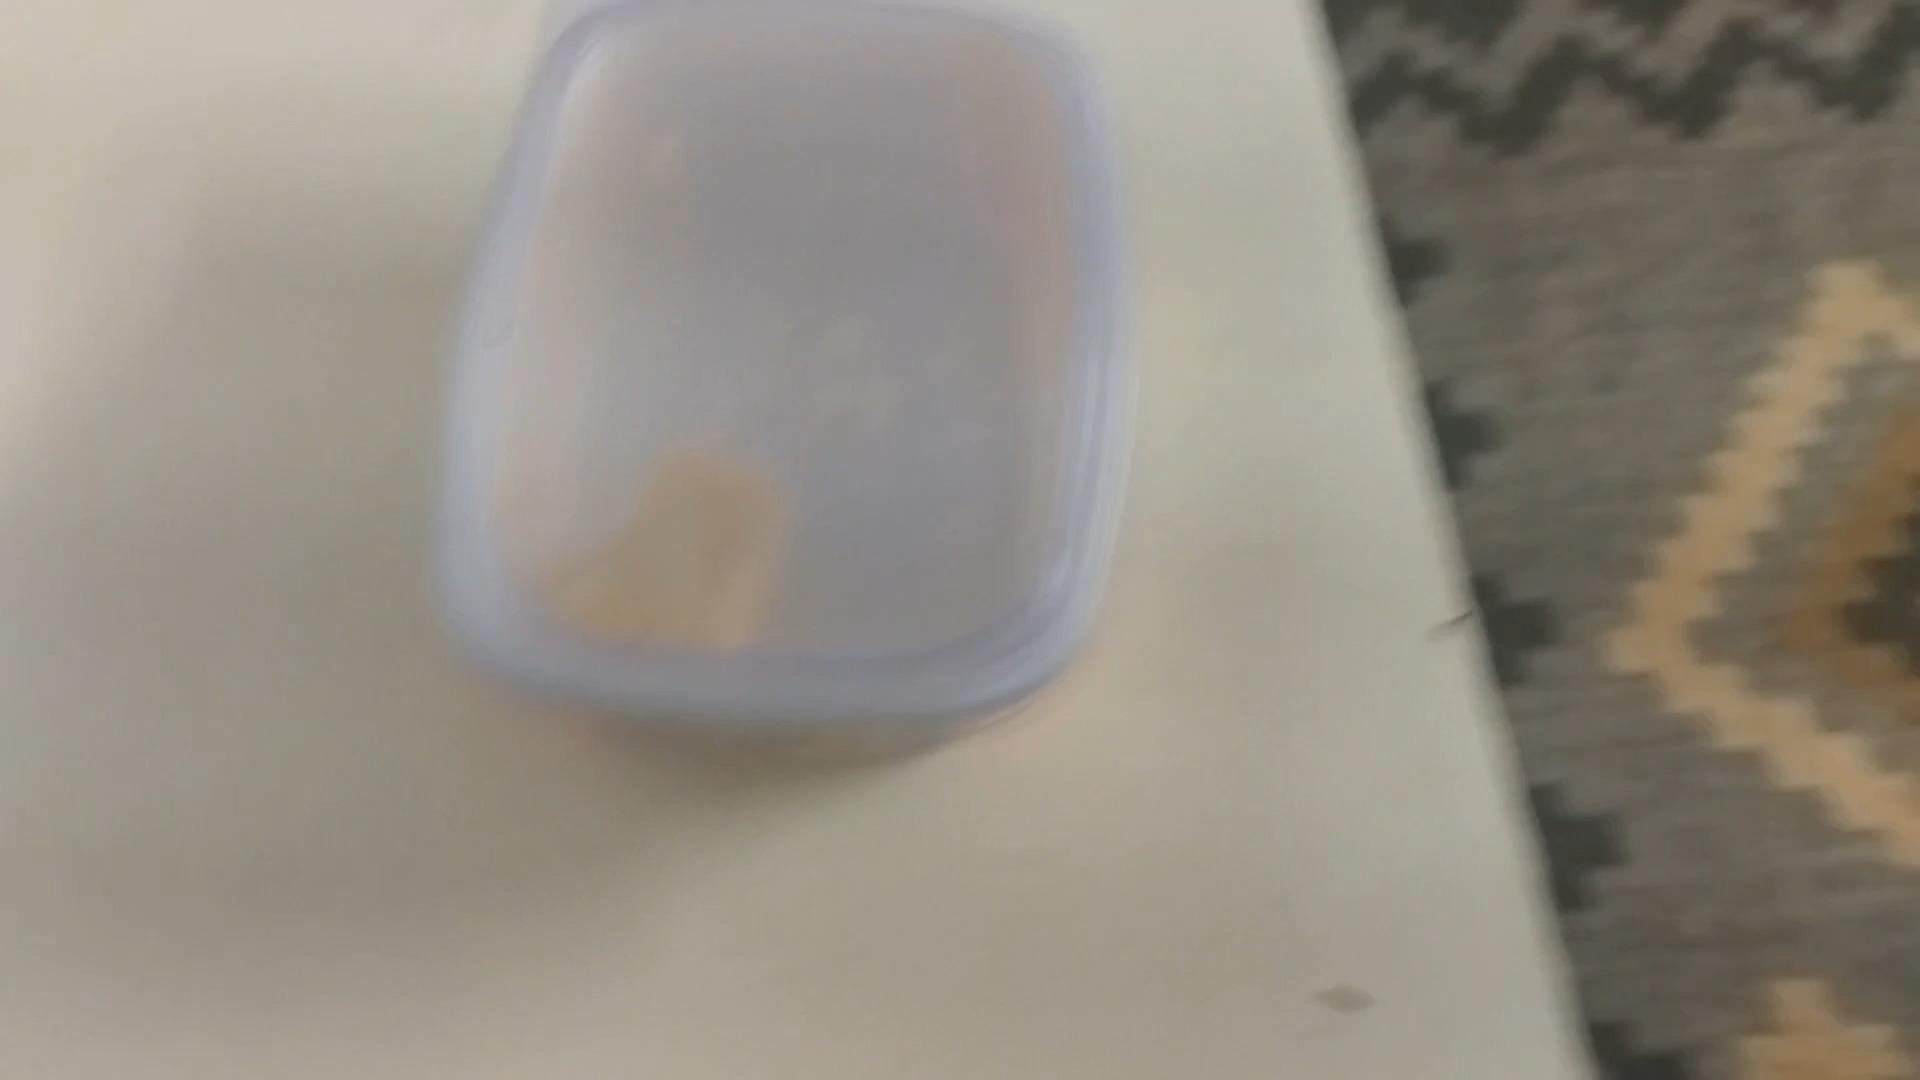butter: (440, 1, 1126, 741)
